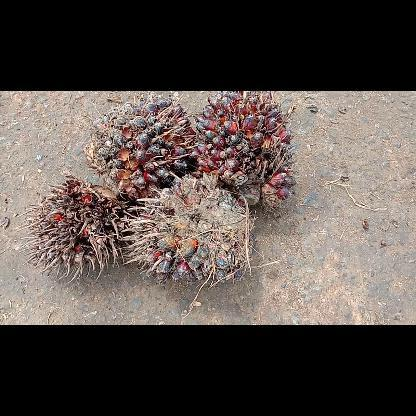TBS abnormal: (121, 174, 255, 282), (81, 92, 200, 200), (194, 90, 296, 206), (17, 176, 129, 281)
